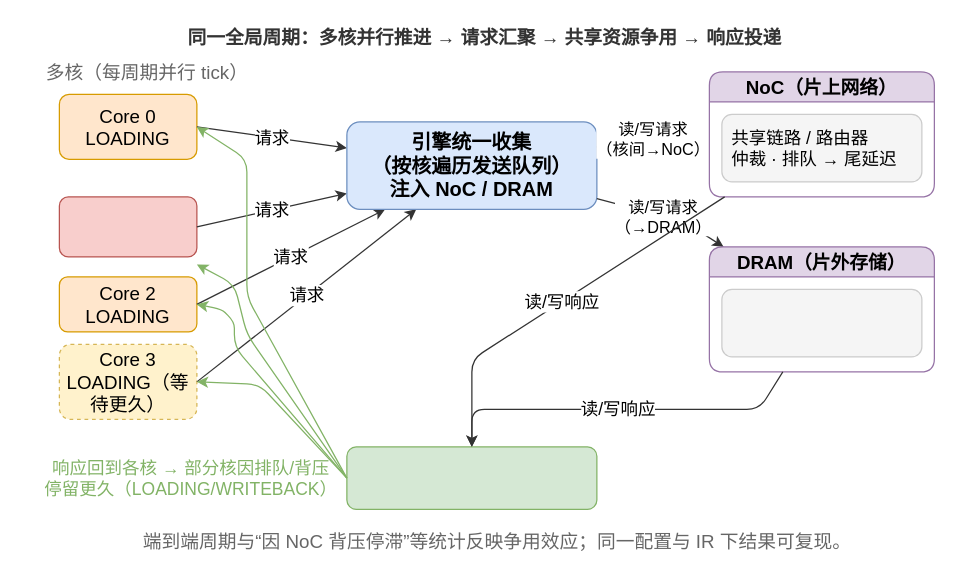
Image size: 968x580. Some labels were removed from this diagram. The shapes that lost their labels are listed below. From the top down, each one's centre as x and y in pixels, then its label:
the point at 127,226: Core 1 WRITEBACK
the point at 821,322: 通道 / Bank 共享 排队 · 行冲突 · 调度延迟
the point at 471,477: 响应投递 （按节点/目的核）
